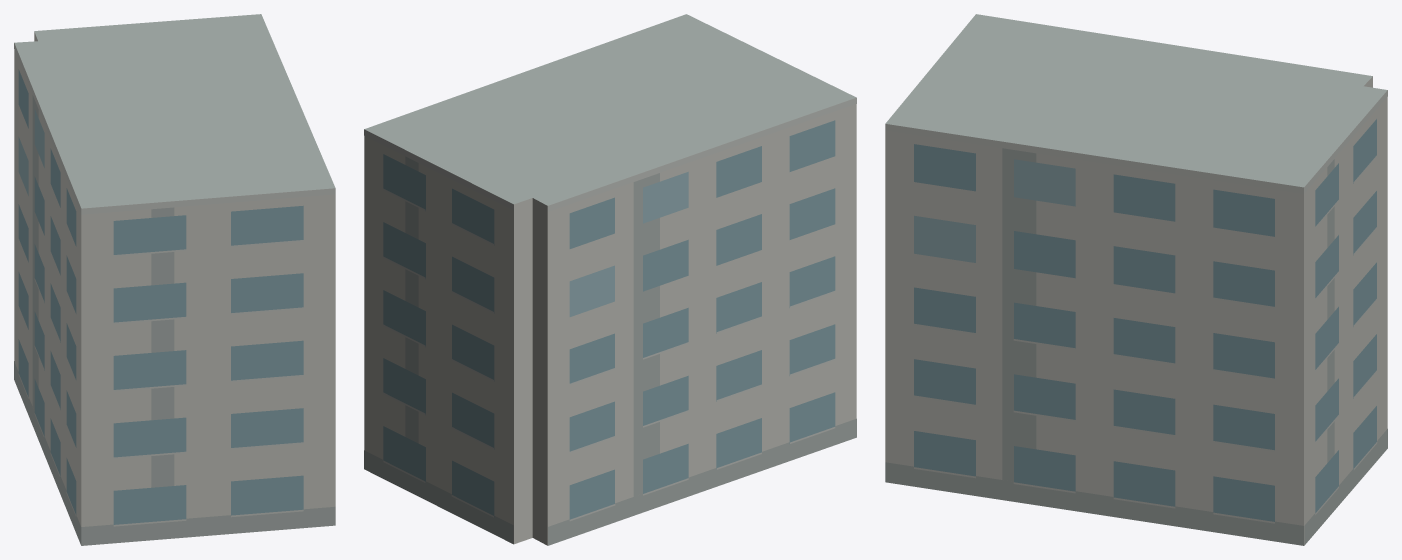
The model's file is survey-upis-32890029.glb.
The picture shows the model from 3 angles, left to right: view 1: azimuth 30°, elevation 25°; view 2: azimuth 150°, elevation 25°; view 3: azimuth 270°, elevation 25°; orthographic projection. The views are drawn at different scales.
Visible parts, largest first — view 1: survey-upis-32890029.tmp; view 2: survey-upis-32890029.tmp; view 3: survey-upis-32890029.tmp.
Part boxes in pixels (x1,y1,x2,y2): survey-upis-32890029.tmp: [14, 14, 335, 545]; survey-upis-32890029.tmp: [364, 14, 856, 545]; survey-upis-32890029.tmp: [885, 14, 1387, 545].
Size of the model in its own units: 13.6 by 13.1 by 16.65.
